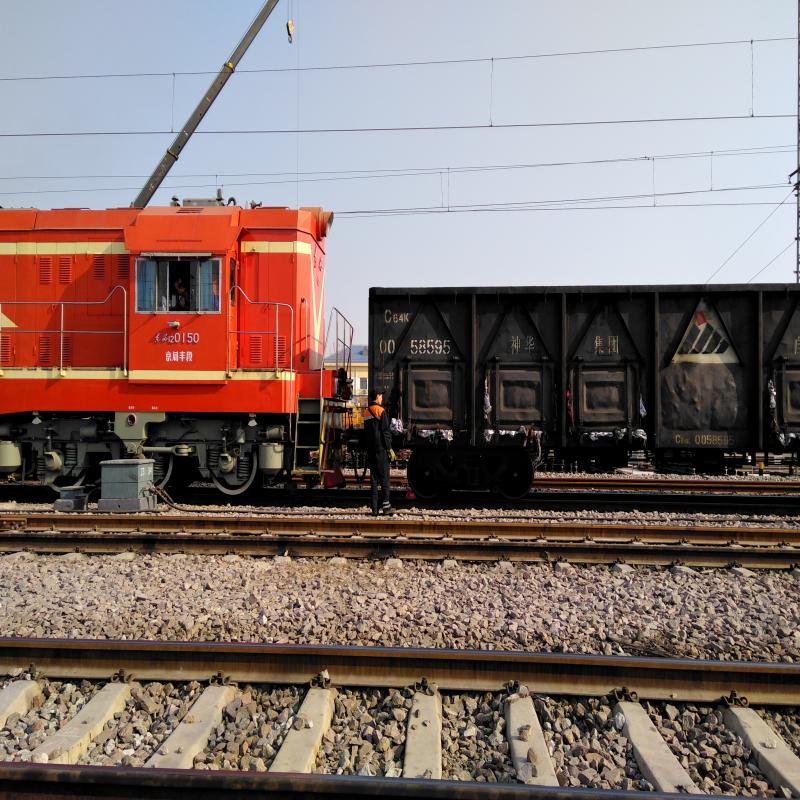train: (2, 194, 344, 491), (365, 281, 800, 493)
